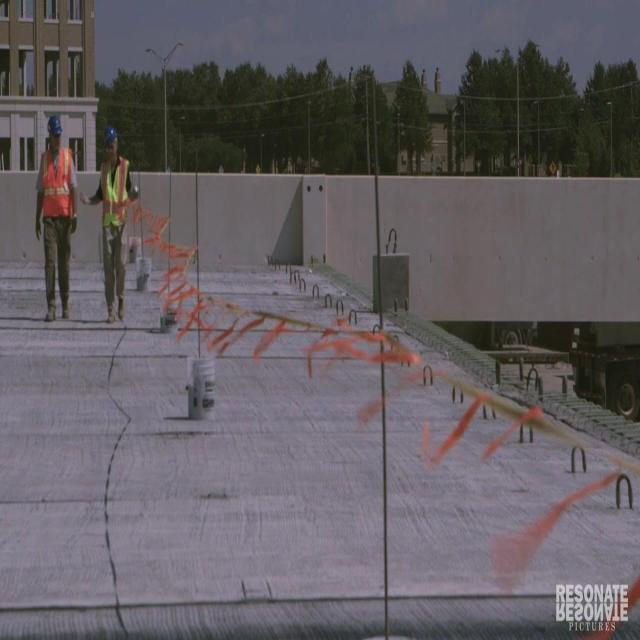Vest: (42, 147, 76, 217), (100, 151, 130, 230)
